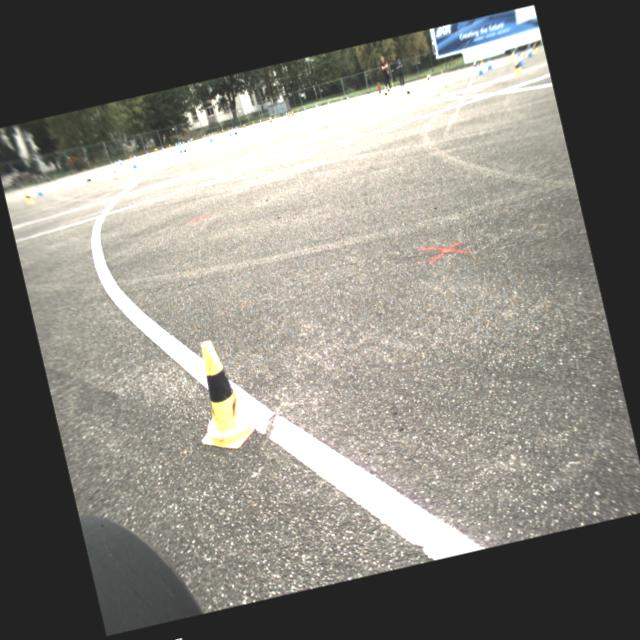blue_cone: (475, 62, 483, 76), (516, 52, 524, 66), (484, 58, 492, 70), (35, 184, 42, 196), (130, 158, 138, 168), (526, 46, 532, 58), (84, 172, 90, 182), (178, 144, 184, 153), (227, 128, 232, 136), (118, 158, 122, 165), (208, 135, 212, 142), (146, 152, 150, 158), (114, 160, 118, 165), (132, 154, 136, 159), (178, 140, 182, 145), (187, 138, 190, 144), (161, 146, 164, 151), (182, 140, 185, 144), (174, 142, 177, 146), (154, 148, 156, 152)
yellow_cone: (180, 334, 262, 456), (510, 58, 522, 76), (22, 189, 34, 204), (404, 86, 412, 100), (86, 175, 95, 187), (110, 165, 118, 177), (382, 88, 390, 100), (182, 145, 188, 157), (424, 72, 430, 84), (232, 128, 238, 138), (472, 61, 478, 71), (386, 84, 391, 95), (268, 116, 273, 126), (290, 110, 294, 119), (286, 112, 290, 120), (440, 68, 444, 75), (242, 123, 246, 130), (168, 144, 172, 150), (155, 147, 158, 152), (273, 114, 276, 118)
